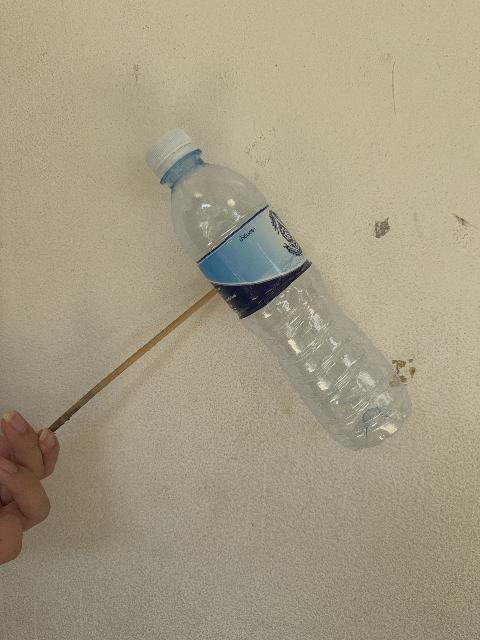bottle: (146, 129, 410, 449)
